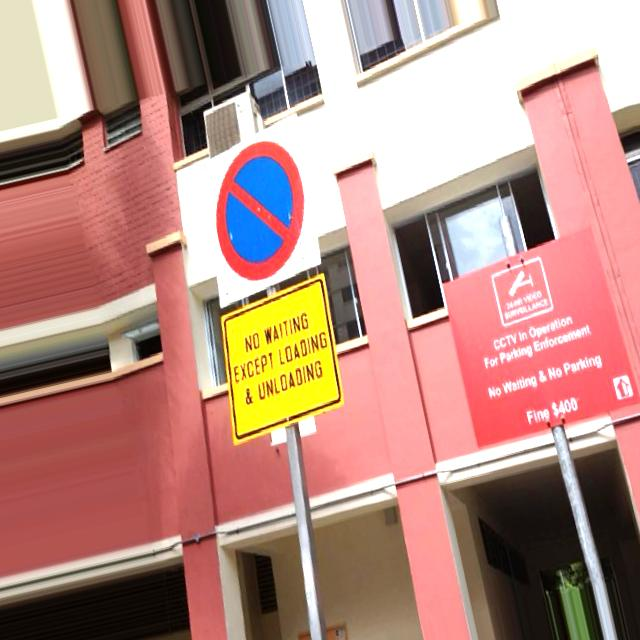forb_stopping: (217, 140, 305, 281)
